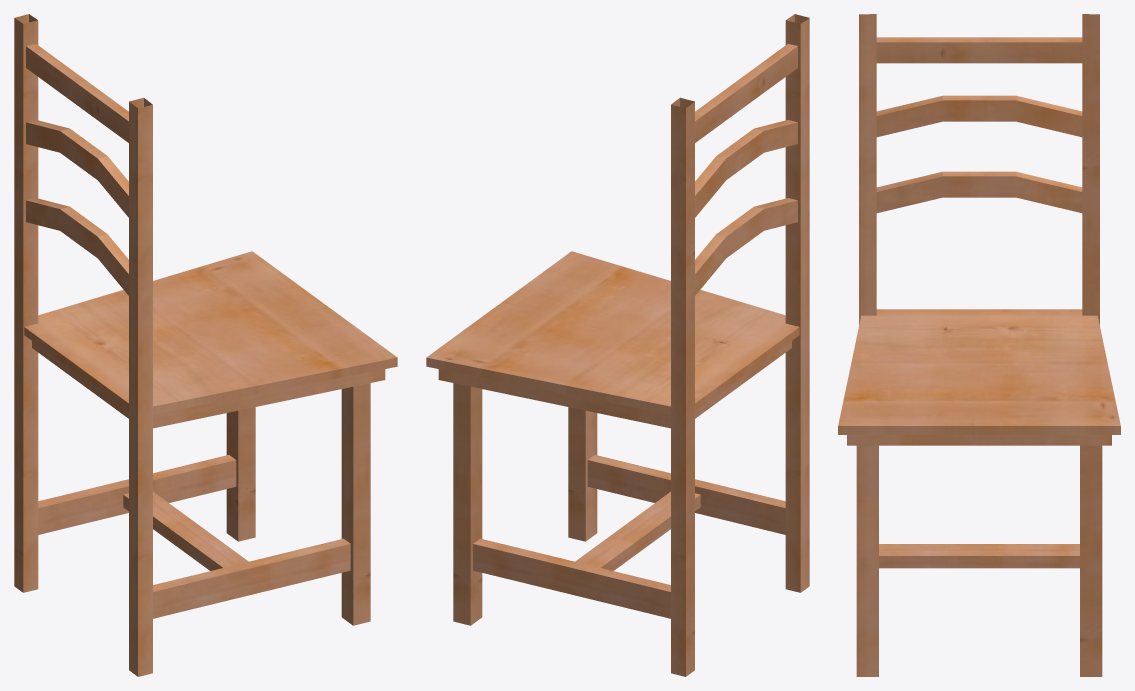
The model's file is Chair_15-col.glb.
3 renders of one model, left to right at view 1: azimuth 30°, elevation 25°; view 2: azimuth 150°, elevation 25°; view 3: azimuth 270°, elevation 25°, orthographic. The views are drawn at different scales.
Parts seen in each view (by area): view 1: Chair_15-col; view 2: Chair_15-col; view 3: Chair_15-col.
Part boxes in pixels (x1,y1,x2,y2): Chair_15-col: (14, 14, 397, 676); Chair_15-col: (426, 14, 809, 676); Chair_15-col: (838, 14, 1120, 676).
Bounding box in the file's own units: 0.52 × 1.14 × 0.5264.
Materials: 1 (1 with a texture image).
